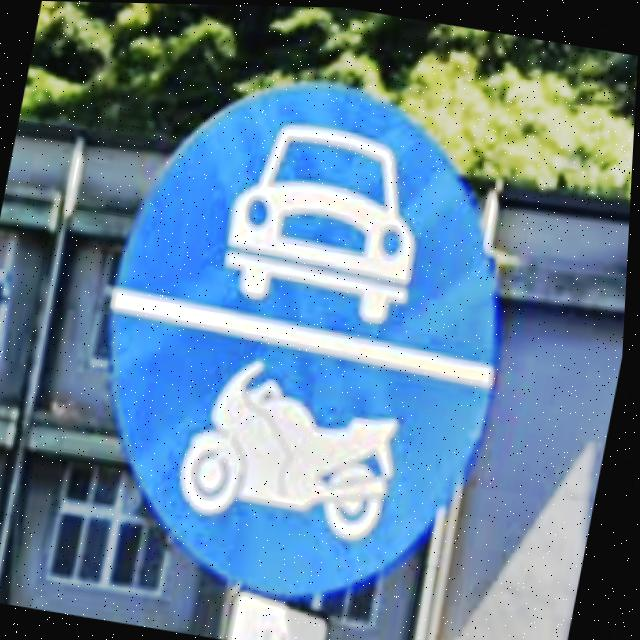carmotorcycle: (115, 84, 499, 594)
